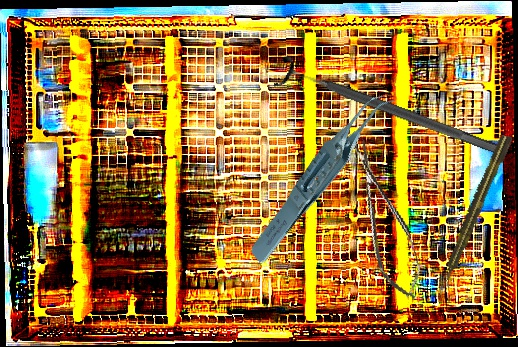Fixation Ring: (272, 52, 505, 167)
Handpiece: (436, 132, 515, 289)
Micro Scissor: (343, 132, 428, 305)
Tissue Forceps: (222, 87, 425, 266)
